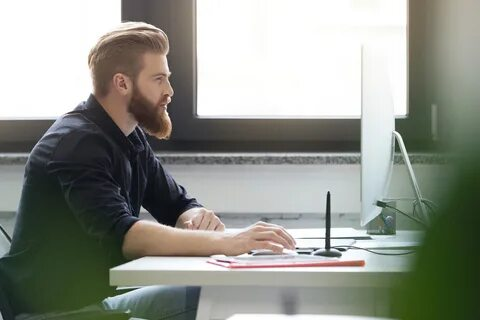awake: (13, 20, 200, 318)
